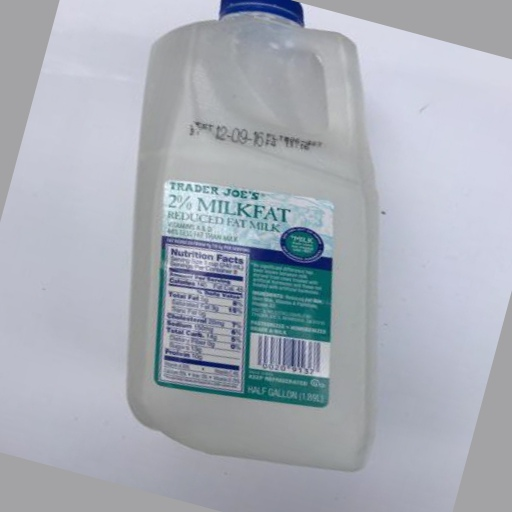Plastic_1: (130, 1, 370, 472)
